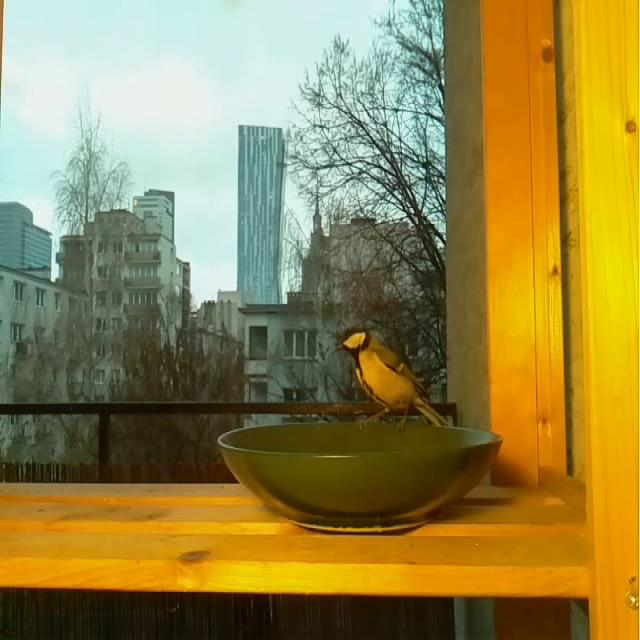Bogatka: (333, 324, 448, 429)
